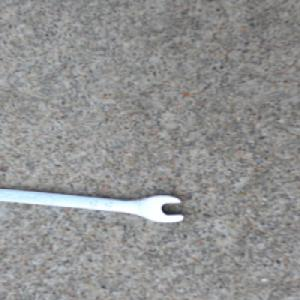Wrench: (0, 186, 187, 224)
